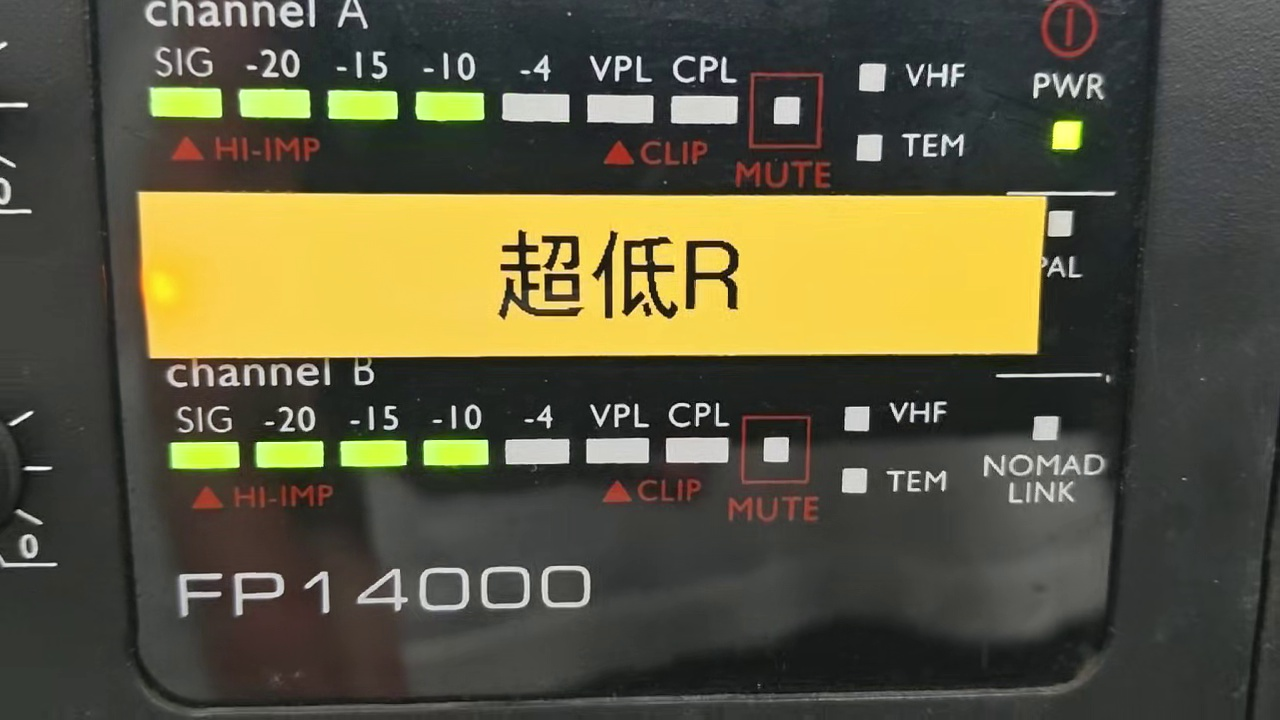FP_CPL: (666, 49, 743, 134), (664, 399, 732, 474)
FP_PWR: (1027, 65, 1110, 164)
FP_PWR_area: (1012, 1, 1121, 197)
FP_SIG_area: (140, 41, 974, 195), (158, 399, 960, 539)
FP_VPL: (582, 50, 660, 131), (582, 402, 655, 477)
